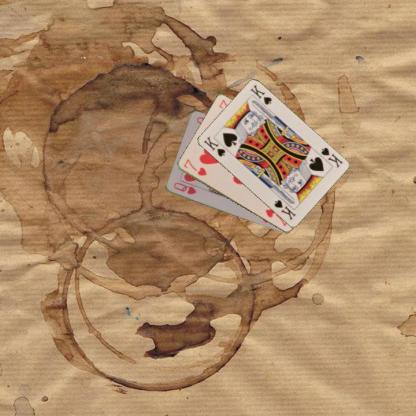7h: (181, 156, 208, 178)
Ks: (318, 144, 344, 170), (200, 134, 226, 158)
Qh: (171, 180, 198, 196)
